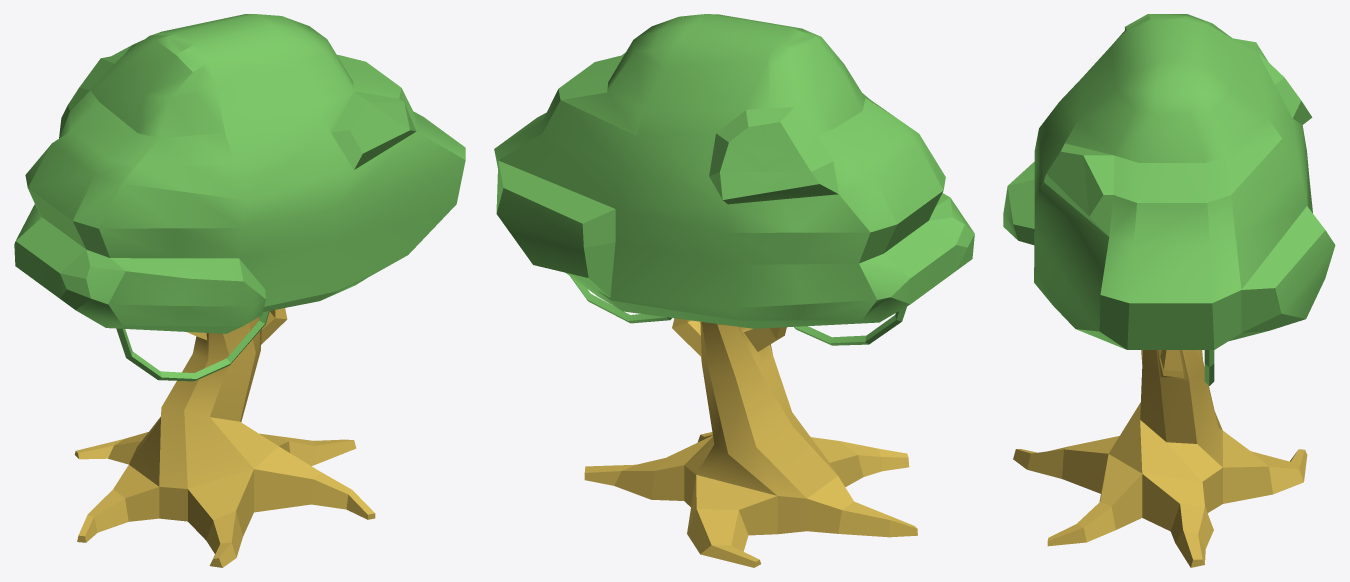
The model's file is MOD_Jungletree_low (1).fbx.
3 renders of one model, left to right at view 1: azimuth 30°, elevation 25°; view 2: azimuth 150°, elevation 25°; view 3: azimuth 270°, elevation 25°, orthographic. The views are drawn at different scales.
Visible parts, largest first — view 1: Treeleaves_low, Treestump_low, Lianen_low; view 2: Treeleaves_low, Treestump_low, Lianen_low; view 3: Treeleaves_low, Treestump_low.
Part boxes in pixels (bbox=[...]): Treeleaves_low: bbox=[14, 14, 465, 333]; Treestump_low: bbox=[74, 308, 375, 567]; Lianen_low: bbox=[116, 311, 269, 381]; Treeleaves_low: bbox=[494, 14, 974, 328]; Treestump_low: bbox=[584, 318, 917, 567]; Lianen_low: bbox=[570, 276, 906, 345]; Treeleaves_low: bbox=[1003, 14, 1335, 349]; Treestump_low: bbox=[1013, 350, 1307, 567].
Bounding box in the file's own units: 4.97 × 5.42 × 3.52.
